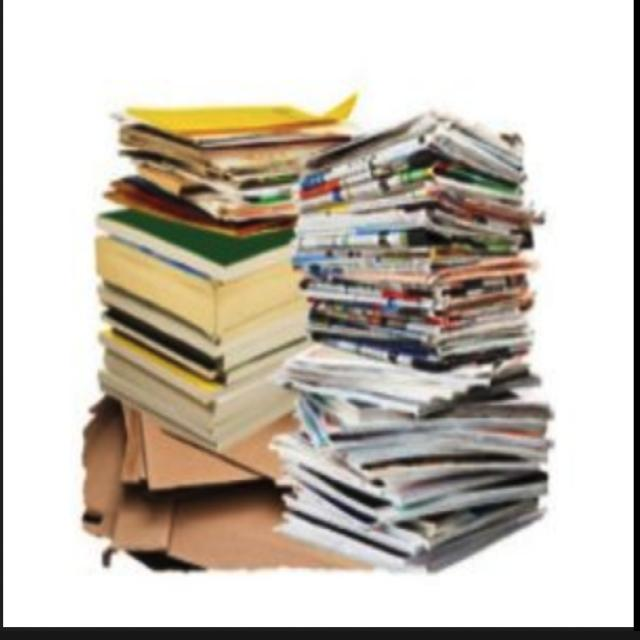Koran: (281, 92, 555, 574)
